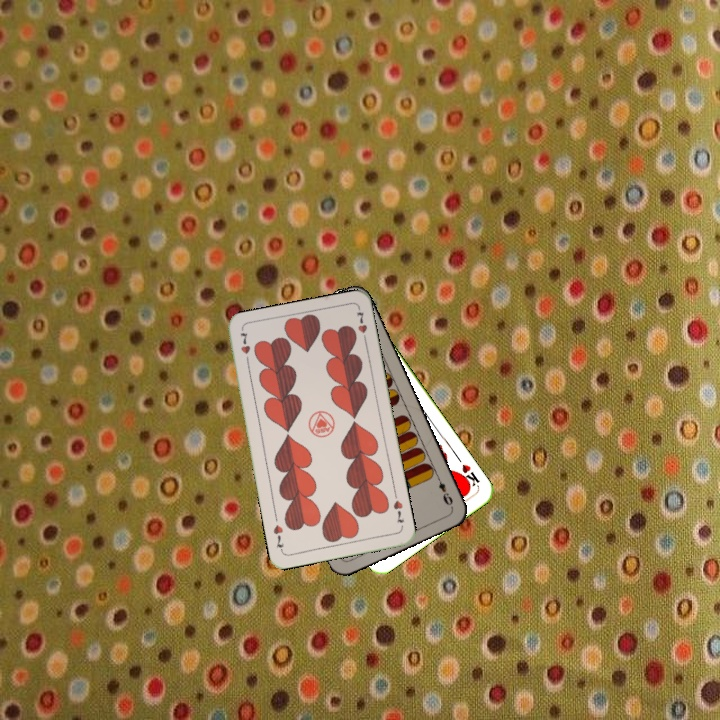E9: (432, 471, 455, 510)
H7: (236, 328, 253, 367), (389, 496, 407, 526)
HK: (455, 460, 482, 491)
